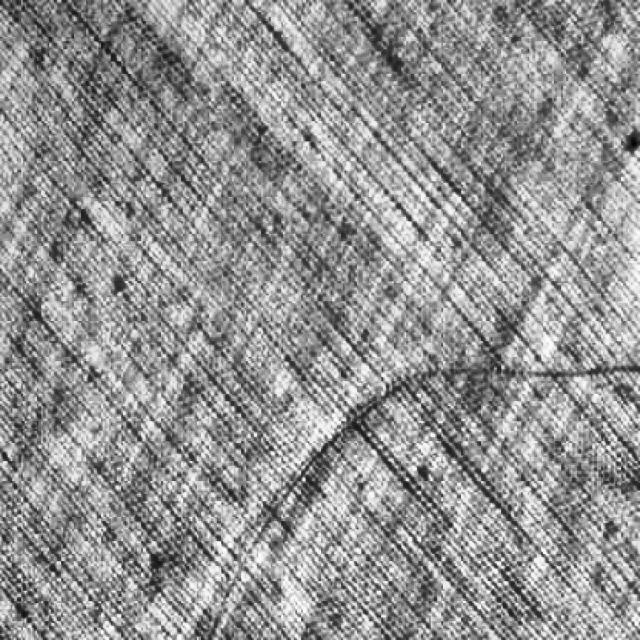thread_error: (188, 340, 637, 640)
